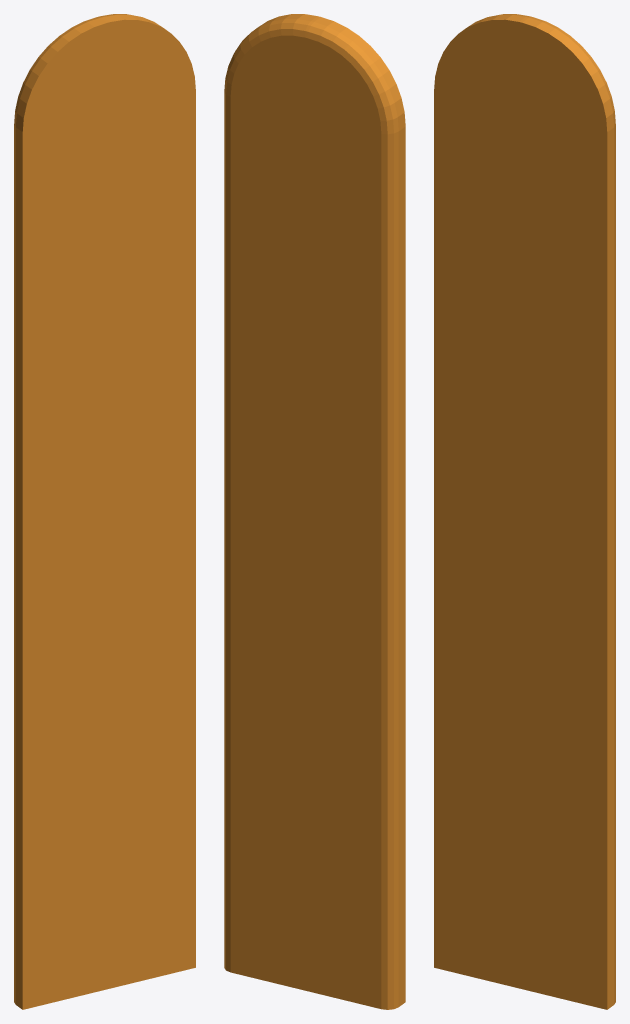
File: hand.glb
3 renders of one model, left to right at view 1: azimuth 30°, elevation 25°; view 2: azimuth 150°, elevation 25°; view 3: azimuth 330°, elevation 25°, orthographic.
Parts seen in each view (by area): view 1: Cube; view 2: Cube; view 3: Cube.
Part boxes in pixels (bbox=[...]): Cube: bbox=[14, 14, 195, 1009]; Cube: bbox=[224, 14, 405, 1009]; Cube: bbox=[434, 14, 615, 1009].
Size of the model in its own units: 0.225 by 1.2 by 0.03.
